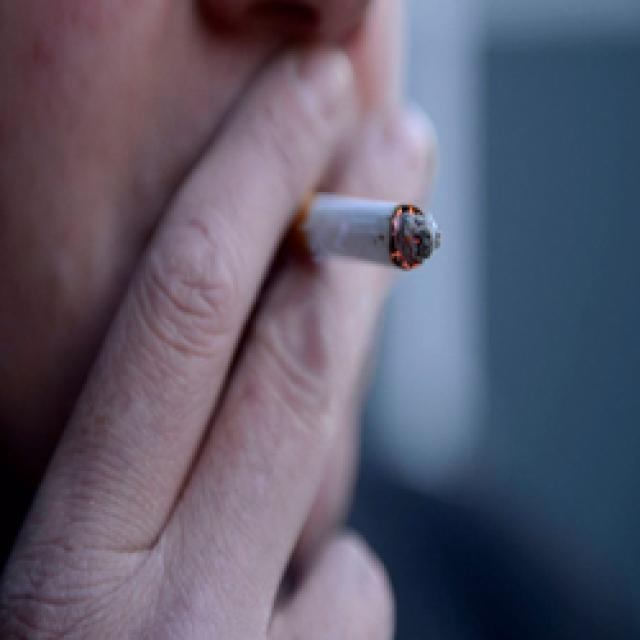Smooking: (306, 165, 465, 302)
